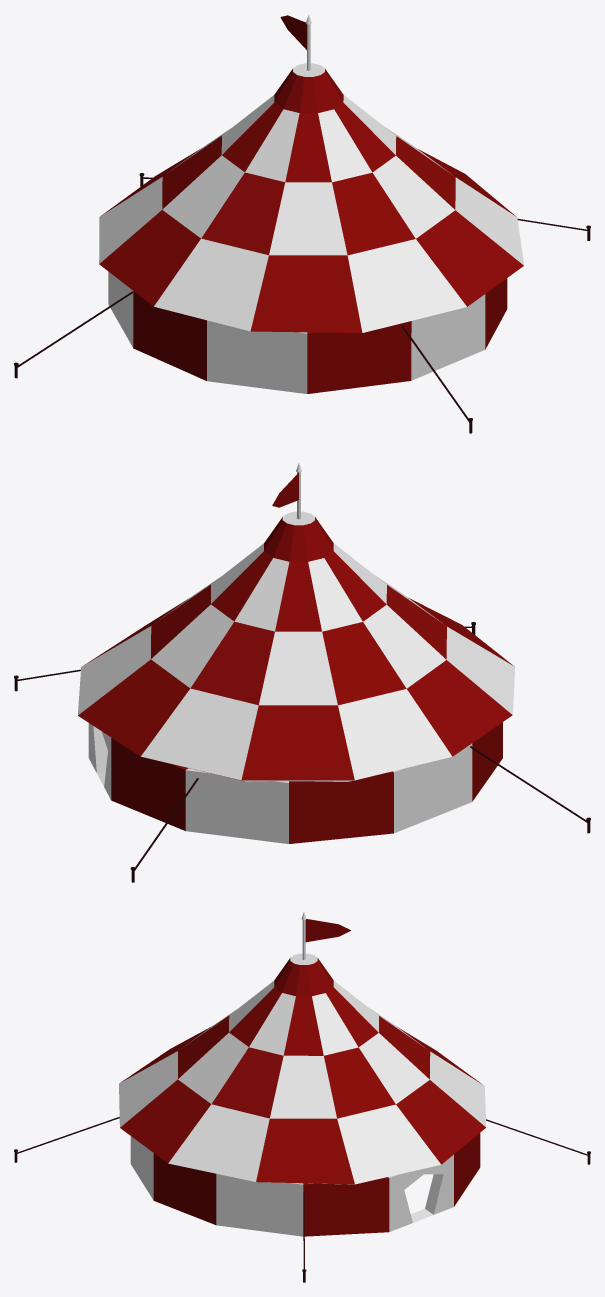
Rendered from Circus Tent Fix.fbx.
The picture shows the model from 3 angles, top to bottom: view 1: azimuth 30°, elevation 25°; view 2: azimuth 150°, elevation 25°; view 3: azimuth 270°, elevation 25°; orthographic projection. The views are drawn at different scales.
Visible parts, largest first — view 1: Cylinder.001, Cylinder.002; view 2: Cylinder.001, Cylinder.002; view 3: Cylinder.001, Cylinder.002.
Part boxes in pixels (<box>): Cylinder.001: <box>99,63,523,393</box>; Cylinder.002: <box>280,14,311,70</box>; Cylinder.001: <box>77,511,515,843</box>; Cylinder.002: <box>272,463,301,519</box>; Cylinder.001: <box>119,953,486,1236</box>; Cylinder.002: <box>301,912,350,959</box>.
Size of the model in its own units: 787 by 387 by 797.
